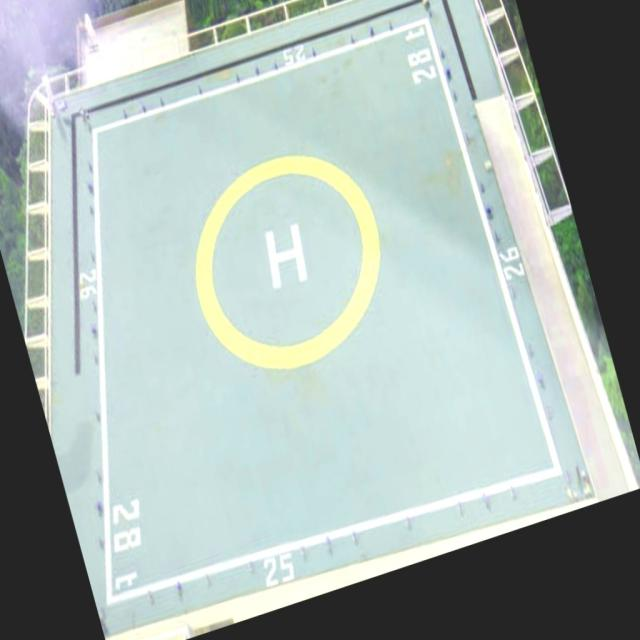helipad: (184, 146, 386, 374)
